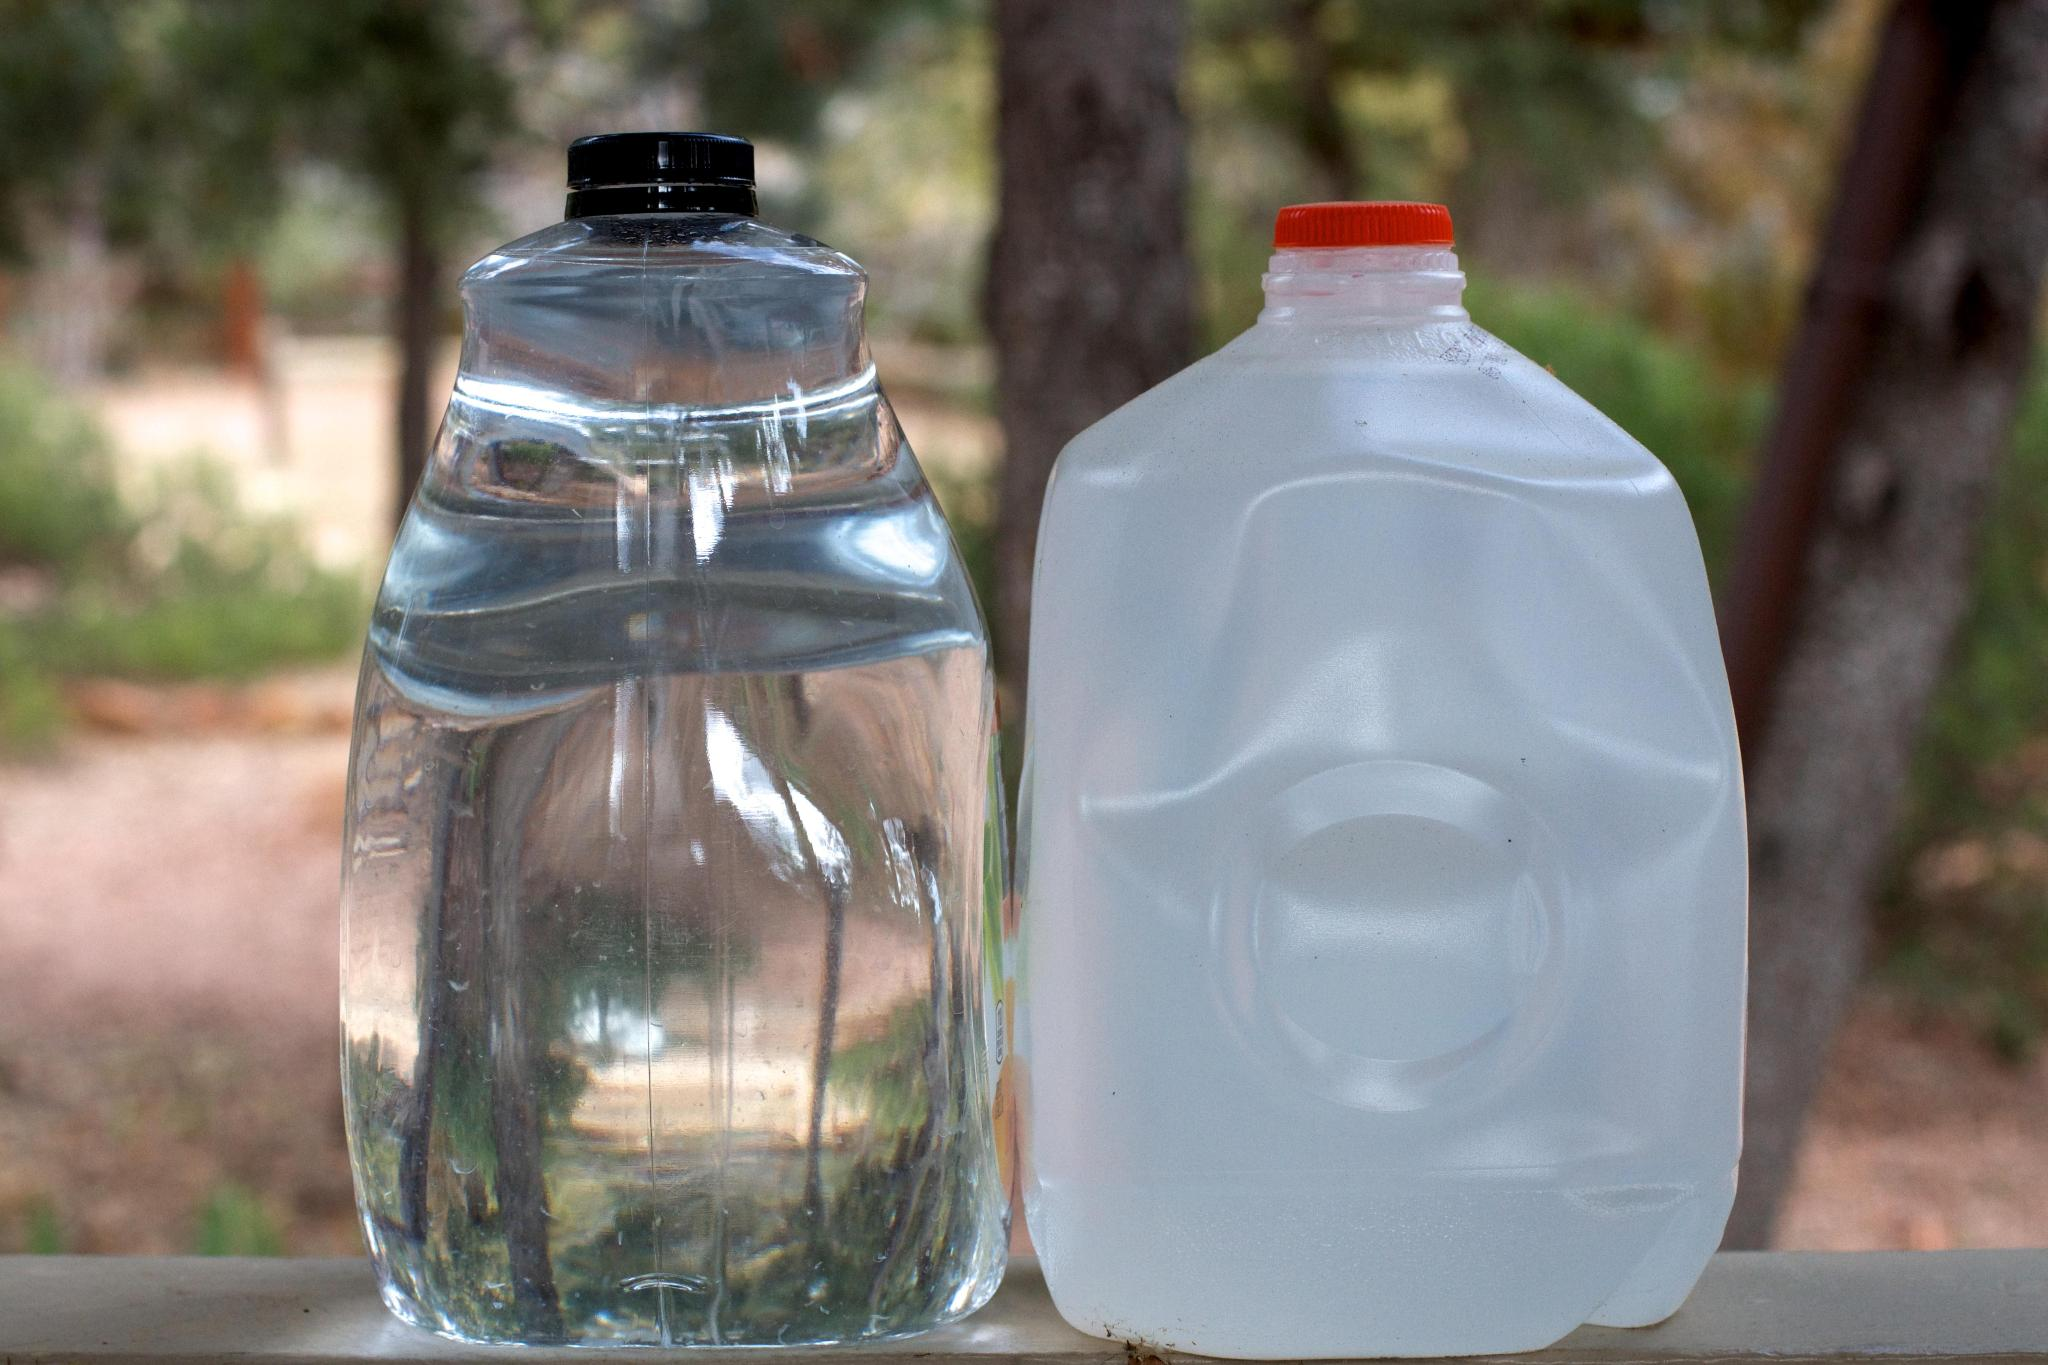bottle: (1023, 46, 1763, 1354), (305, 46, 1017, 1365)
